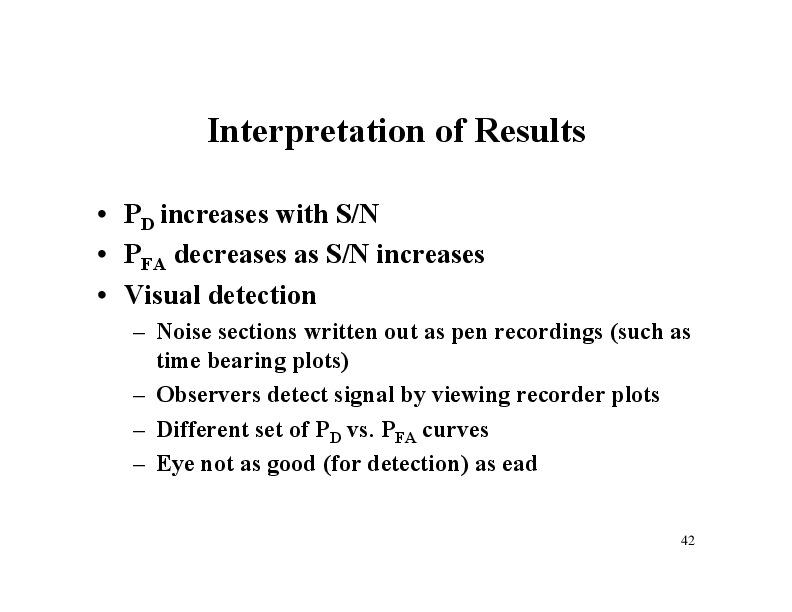paragraph: (83, 193, 712, 486)
title: (199, 106, 599, 155)
